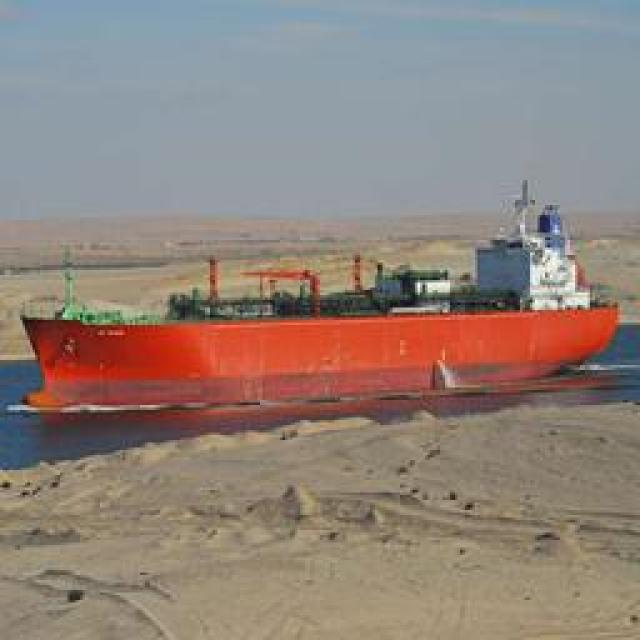CIV_Ship: (9, 235, 632, 420)
